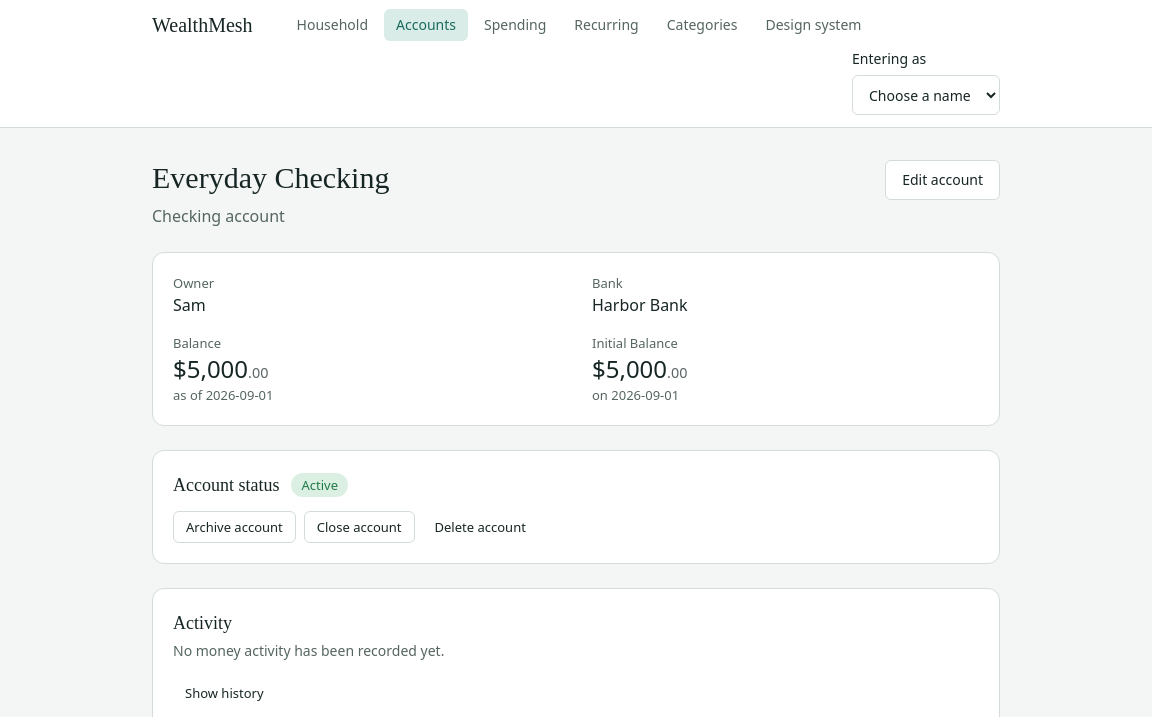
it: editing a checking account › V2_CHECKING_003 edits details without changing money and keeps Update balance separate
Expected: the heading "Everyday Checking" is shown, [152, 160, 389, 196]
Click the link "Edit account": click(943, 180) [885, 160, 1000, 200]
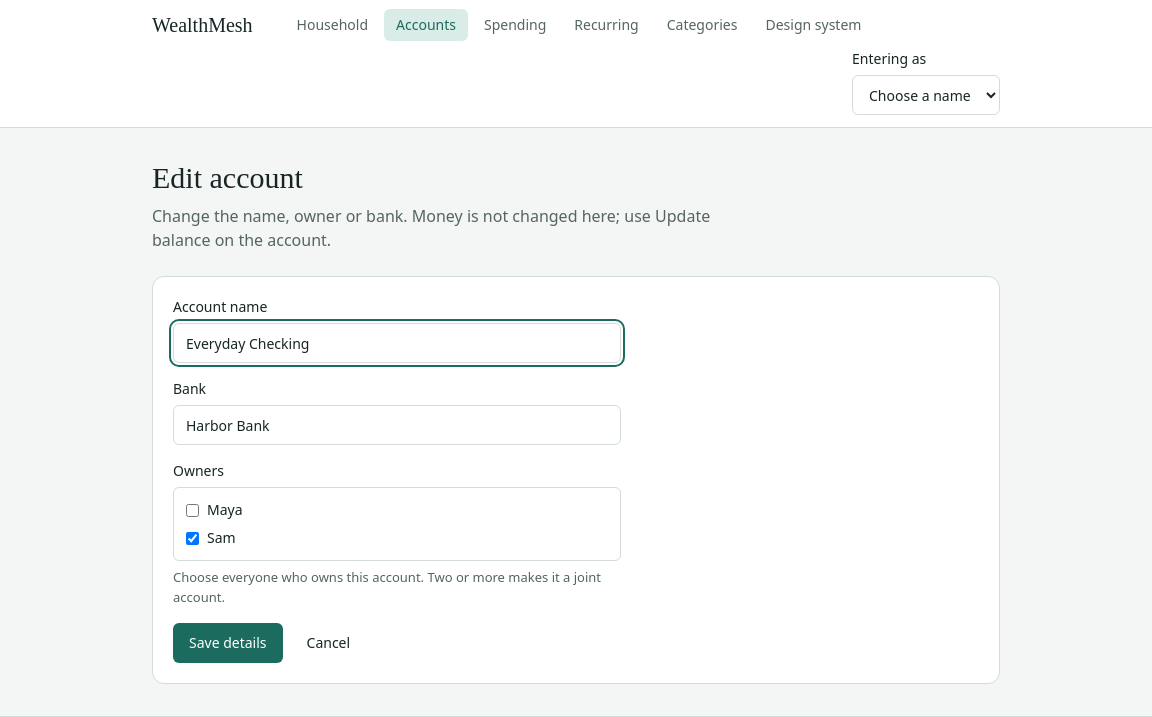
Replace the text in the field labelled "Account name" with "Household Checking": (397, 343) [173, 323, 621, 363]
Click the checkbox labelled "Sam": click(192, 538) [186, 532, 199, 544]
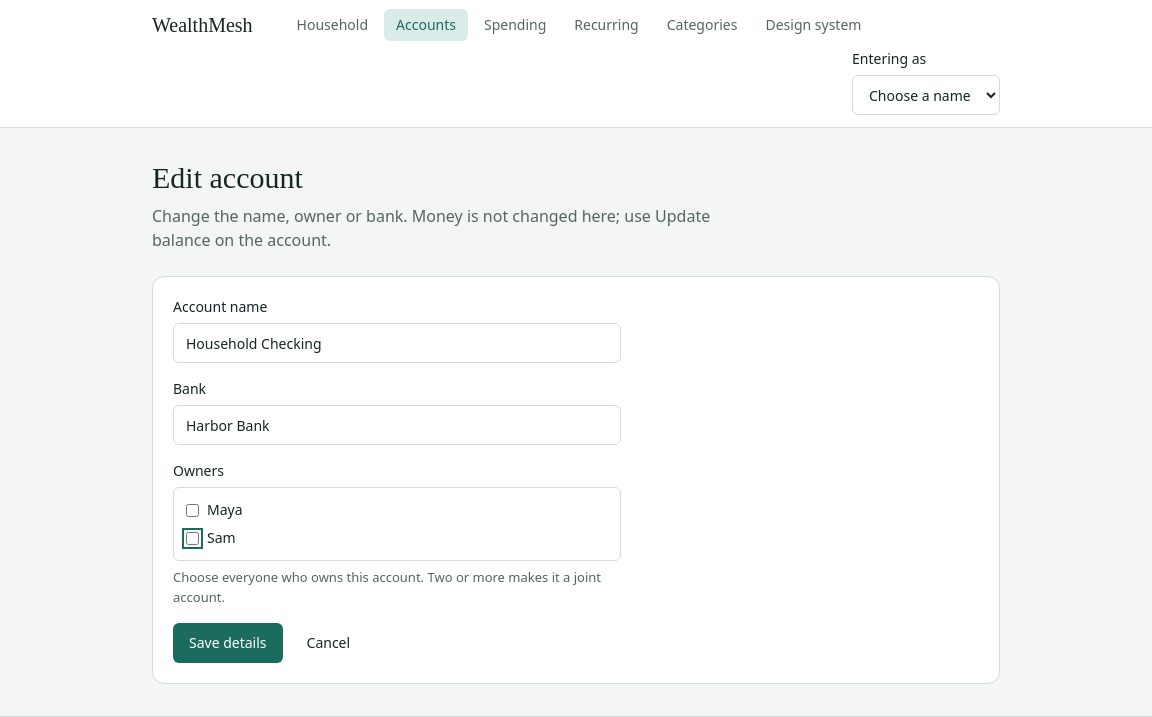
Click the checkbox labelled "Maya": click(192, 510) [186, 504, 199, 516]
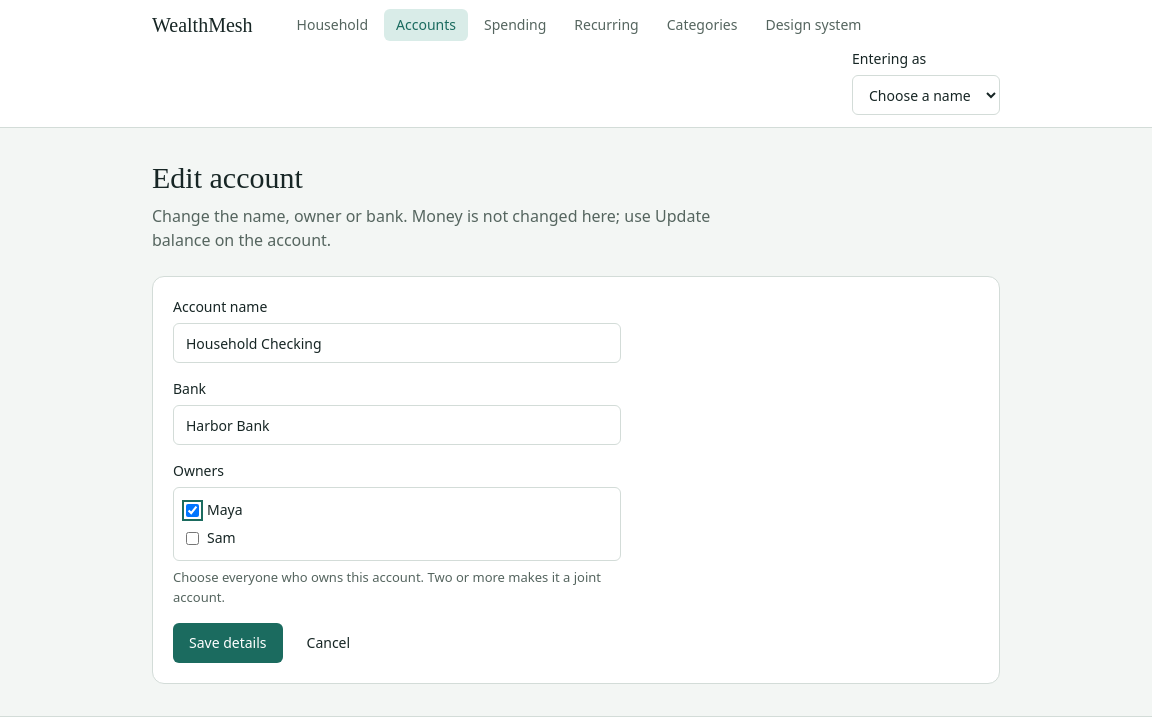
Replace the text in the field labelled "Bank" with "Harbor Credit Union": (397, 425) [173, 405, 621, 445]
Click the button "Save details": click(228, 643) [173, 623, 282, 663]
(page scrolled)
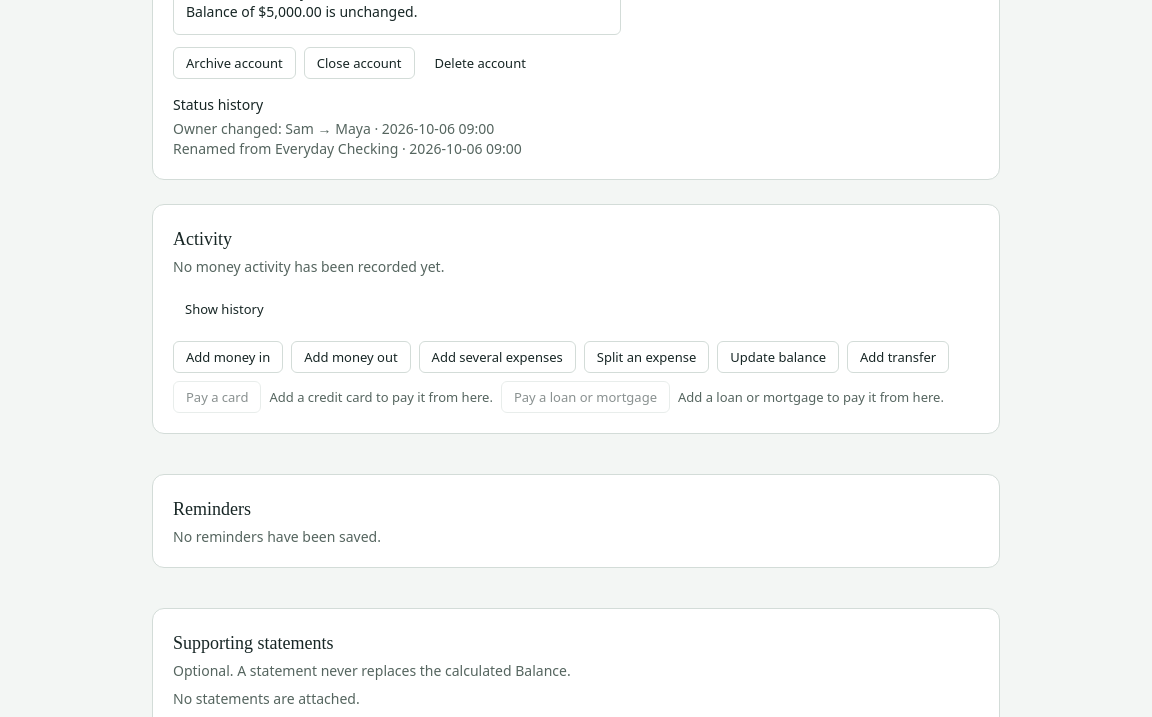
Click the button "Update balance": click(778, 357) [717, 341, 839, 373]
(page scrolled)
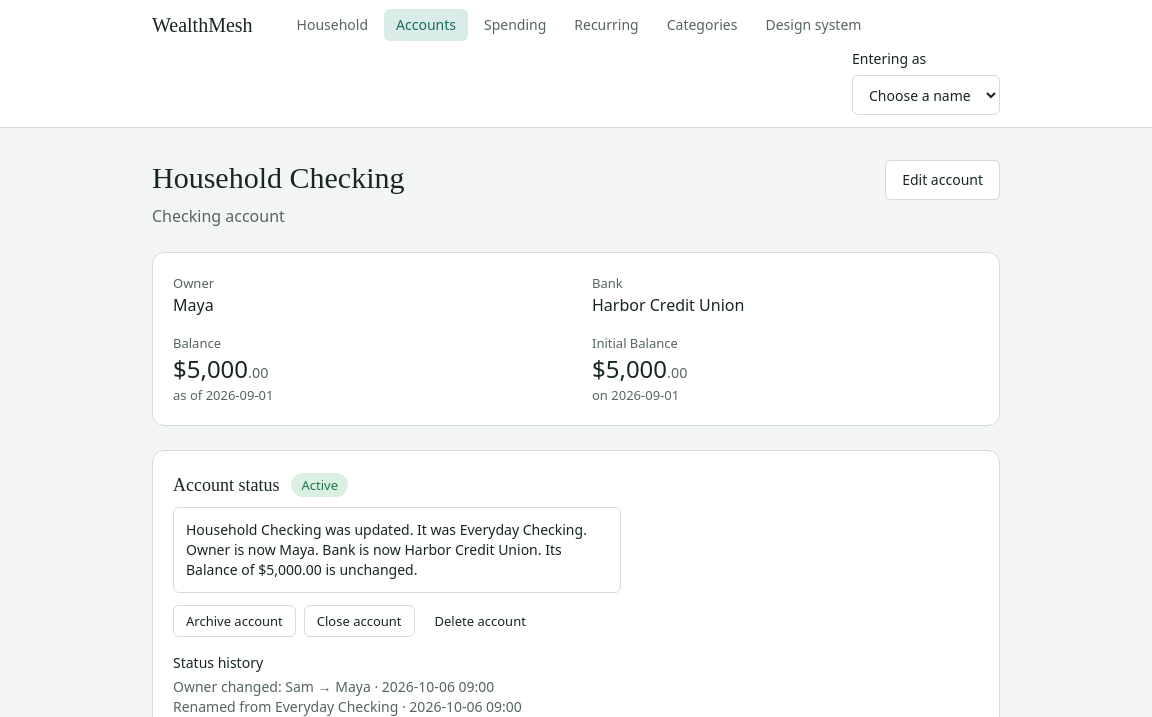
Click the link "Accounts": click(426, 25) [384, 9, 468, 41]
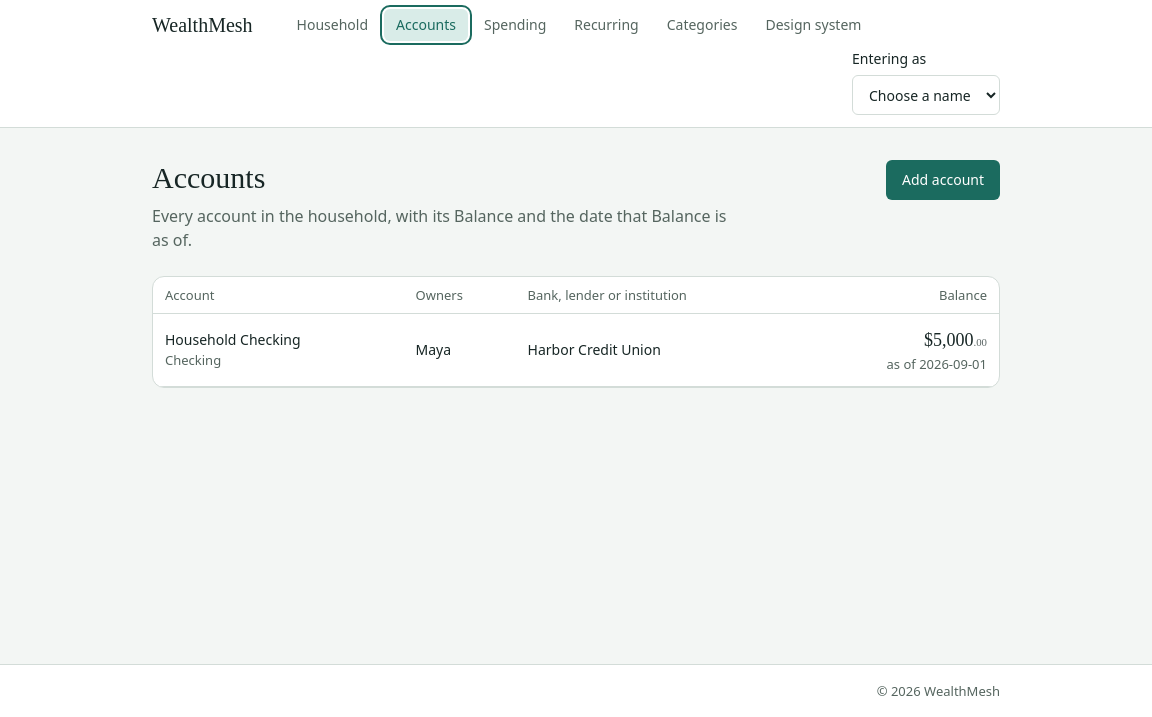
Expected: the row "Household Checking" shows "Maya", [416, 340, 451, 359]
Expected: the row "Household Checking" shows "Harbor Credit Union", [528, 340, 661, 359]
